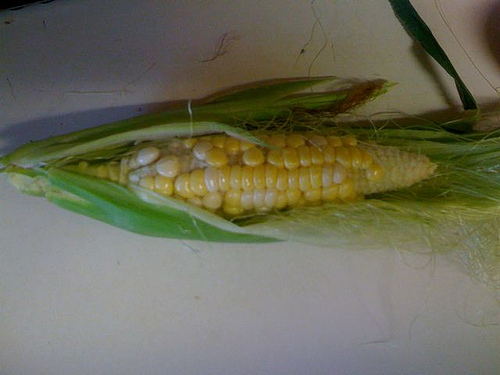corn: (3, 73, 496, 263)
